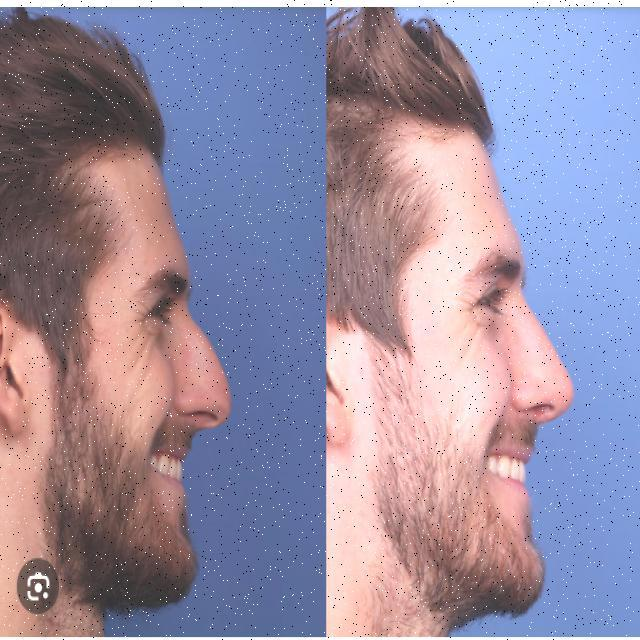face_no_mask: (322, 110, 580, 616), (0, 128, 240, 594)
